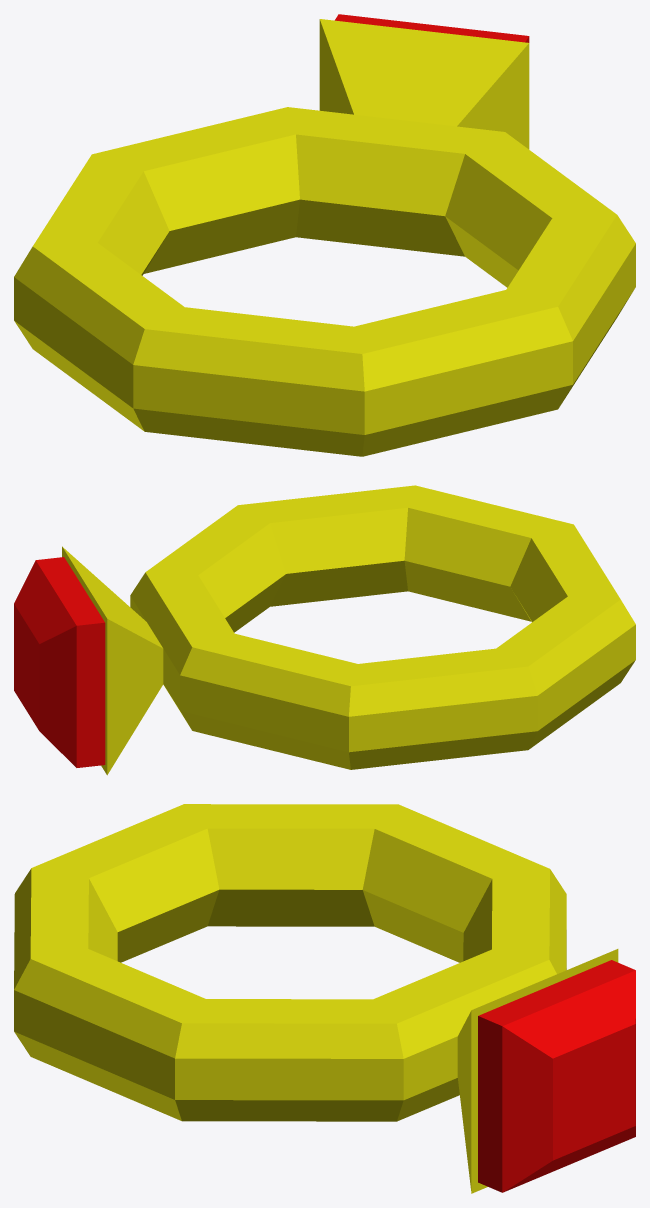
The model's file is ring.fbx.
3 renders of one model, top to bottom at view 1: azimuth 30°, elevation 25°; view 2: azimuth 150°, elevation 25°; view 3: azimuth 270°, elevation 25°, orthographic. The views are drawn at different scales.
Visible parts, largest first — view 1: Ring; view 2: Ring; view 3: Ring.
Boxes of the visible parts, box(x1,y1,x2,y2) form: Ring: box(14, 14, 635, 456); Ring: box(14, 485, 635, 775); Ring: box(14, 804, 635, 1193).
Size of the model in its own units: 150 by 48.72 by 150.
